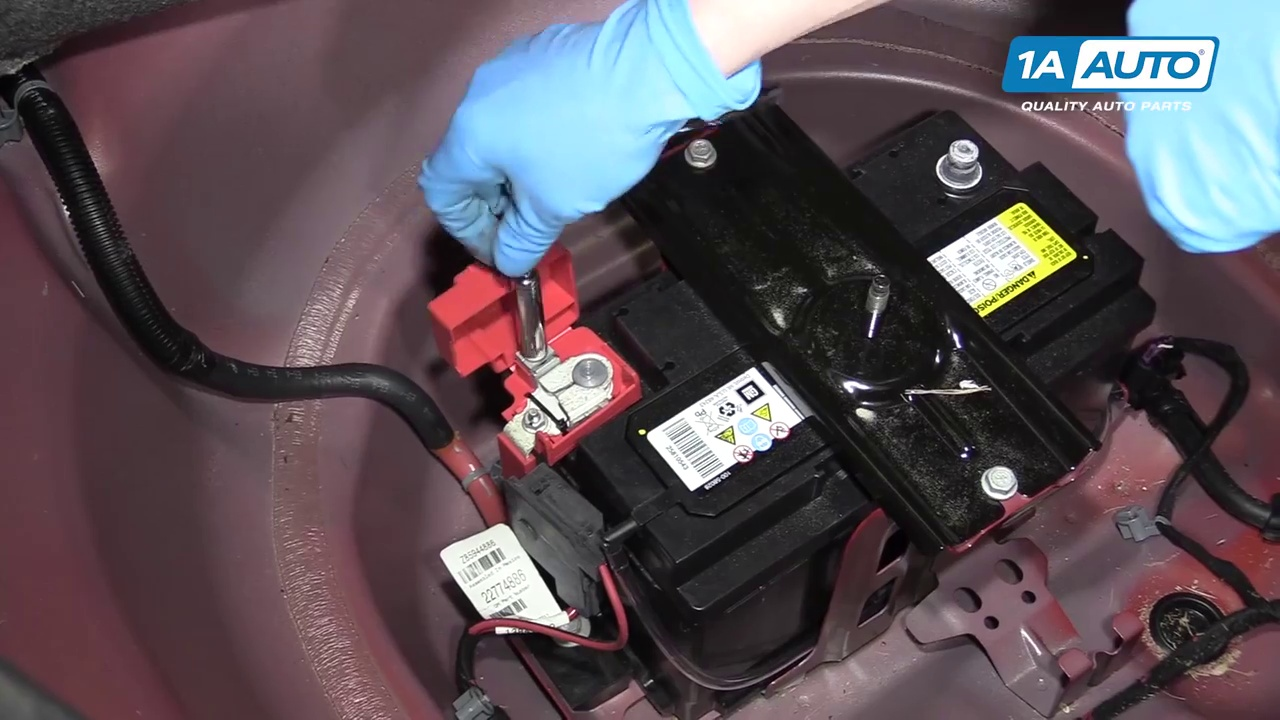battery: (511, 103, 1160, 592)
neg_disconnected: (924, 119, 1014, 202)
neg_touched: (407, 147, 632, 431)
pos_connected: (481, 294, 641, 453)
